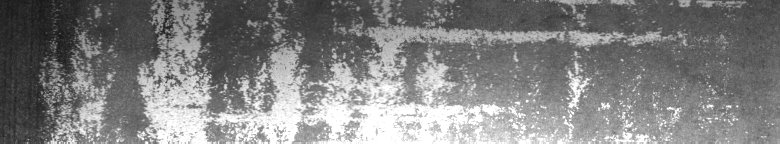kb: (36, 4, 752, 136)
